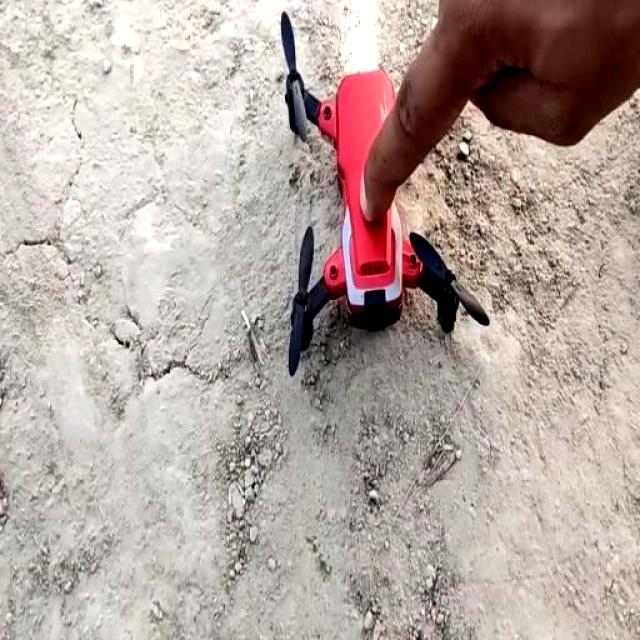bird: (279, 34, 464, 368)
